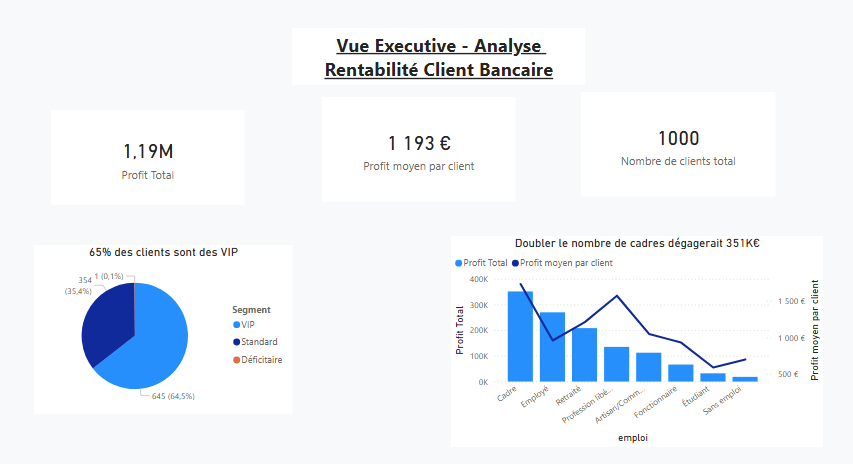

This screenshot's page, from the dashboard's own definition file:
{"tool":"powerbi","page":{"name":"Vue Exécutive","canvas":[1280,720],"ordinal":0},"visuals":[{"type":"card","title":"Profit Total","fields":{"Values":["Mesures.Profit Total"]},"box":[101.8,168.7,279.8,137.2],"z":0},{"type":"card","fields":{"Values":["Mesures.Profit moyen par client"]},"box":[493.4,150.6,279.8,150.6],"z":1000},{"type":"card","fields":{"Values":["Mesures.Nombre de clients total"]},"box":[866.9,142.6,281.2,150.6],"z":2000},{"type":"pieChart","title":"65% des clients sont des VIP","fields":{"Category":["recap_rentabilite.segment_calcule"],"Y":["Mesures.Nombre de clients total"]},"box":[76.3,364.9,373.6,243.7],"z":3000},{"type":"lineStackedColumnComboChart","title":"Doubler le nombre de cadres dégagerait 351K€","fields":{"Category":["clients.emploi"],"Y":["Mesures.Profit Total"],"Y2":["Mesures.Profit moyen par client"]},"box":[680.2,351.5,538.2,305.3],"z":4000},{"type":"textbox","box":[449.9,50.2,424.4,82.3],"z":5000}]}

Visuals, with their boxes on the page's 1280x720 design canvas (x1, y1, x2, y2). These are canvas units, not pixel positions in the 853x464 screenshot, which may show the page scaled, cropped or inside an application window:
"Profit Total" card: box(102, 169, 382, 306)
card - Mesures.Profit moyen par client: box(493, 151, 773, 301)
card - Mesures.Nombre de clients total: box(867, 143, 1148, 293)
"65% des clients sont des VIP" pieChart: box(76, 365, 450, 609)
"Doubler le nombre de cadres dégagerait 351K€" lineStackedColumnComboChart: box(680, 352, 1218, 657)
textbox: box(450, 50, 874, 132)
